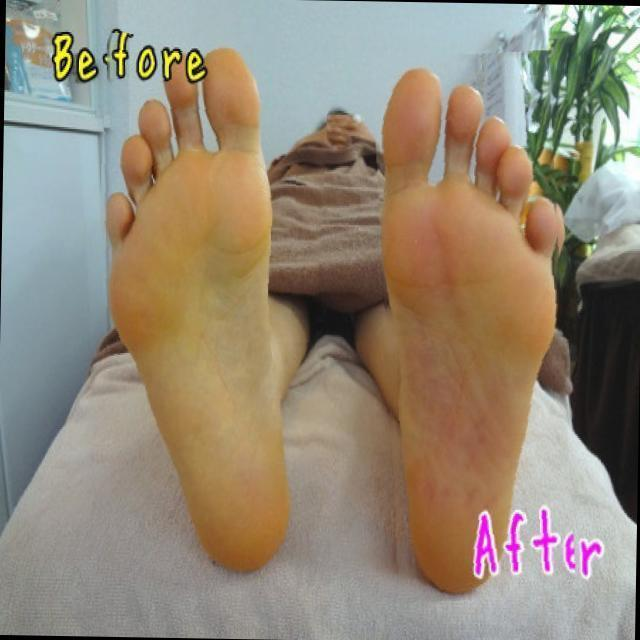No_Shoes: (97, 62, 334, 570), (366, 58, 558, 588)
